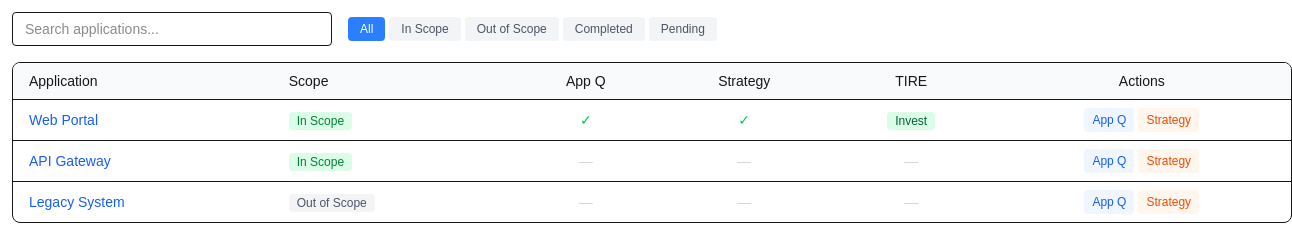
Test: ApplicationTable › filters by search term
In the field with placeholder "Search applications...": (172, 29) [12, 12, 332, 46], type "portal"
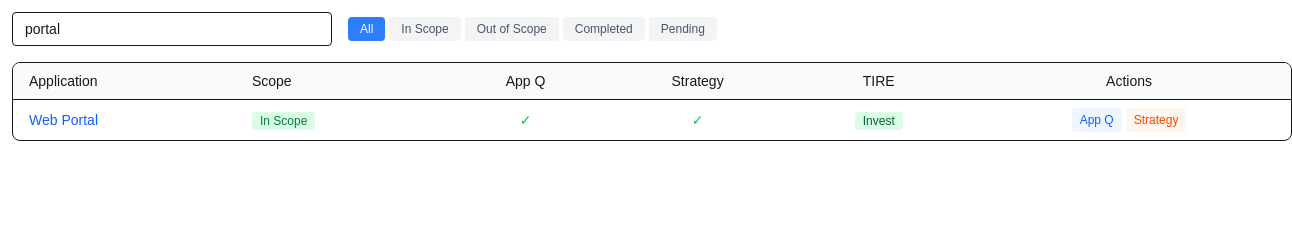
Expected: the link "Web Portal" is shown, [29, 112, 98, 128]
Expected: the link "API Gateway" is gone
